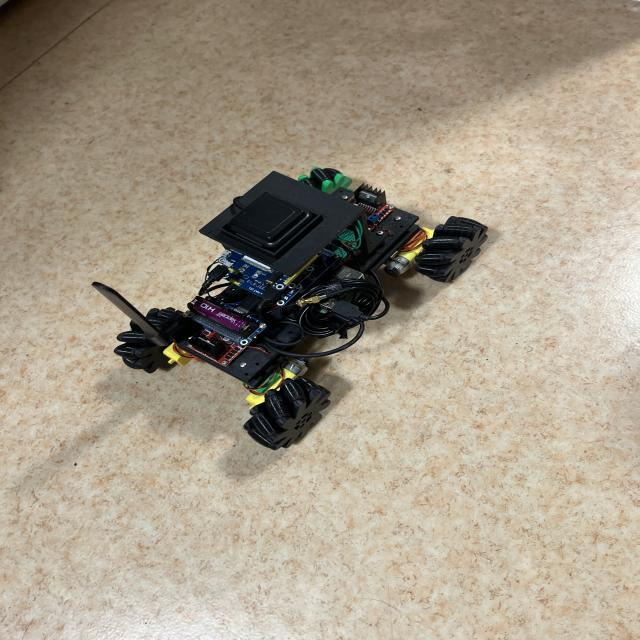robot: (92, 168, 487, 450)
